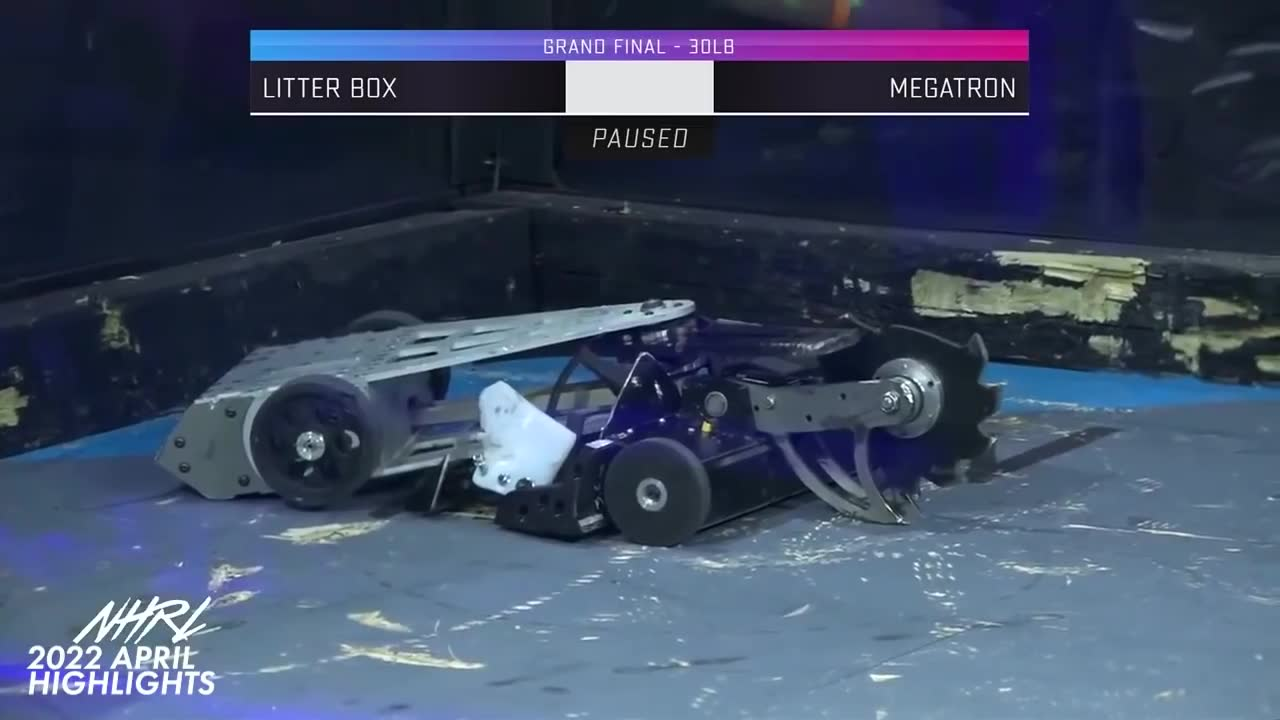combatbot: (157, 304, 701, 552), (474, 322, 989, 556)
